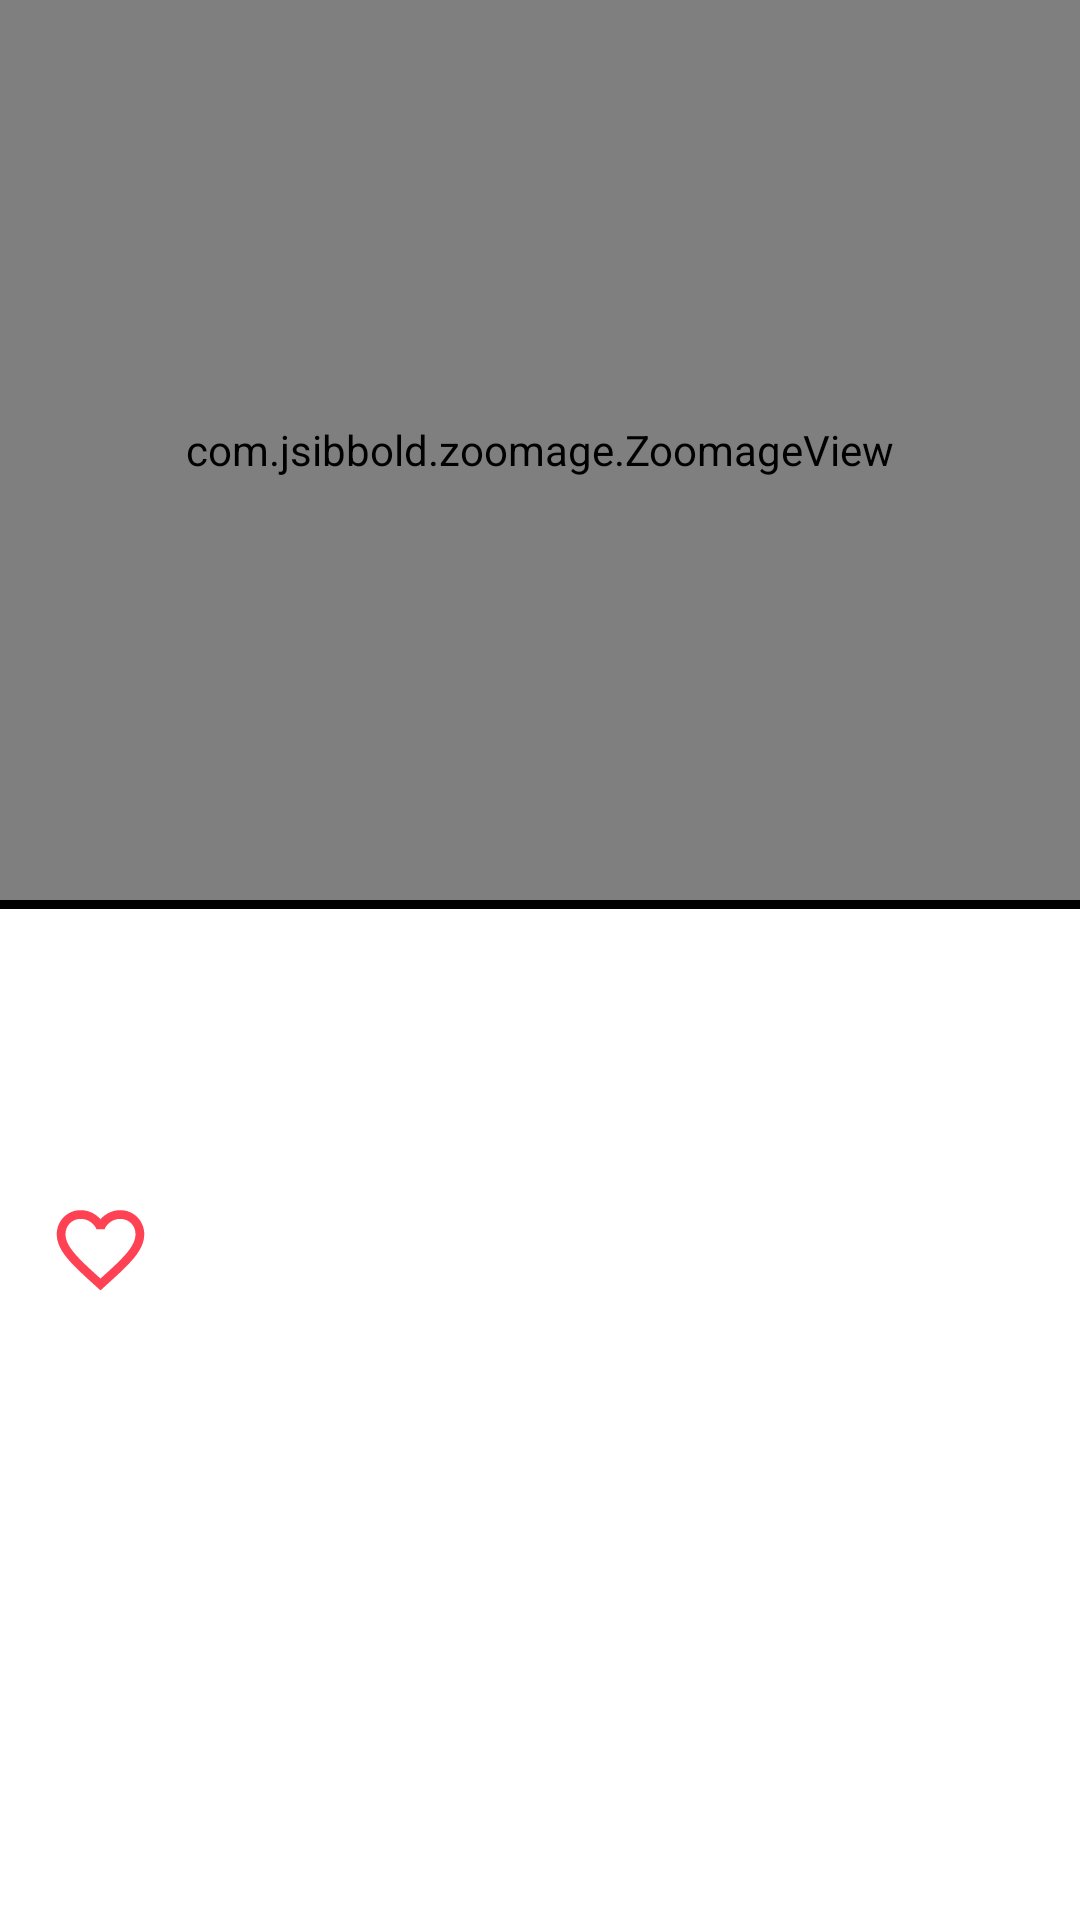

Icon bounding boxes for this 1080*1920 phone screenshot, format BBox(x1, y1, x2, y2):
favorite border: BBox(56, 1210, 145, 1290)
